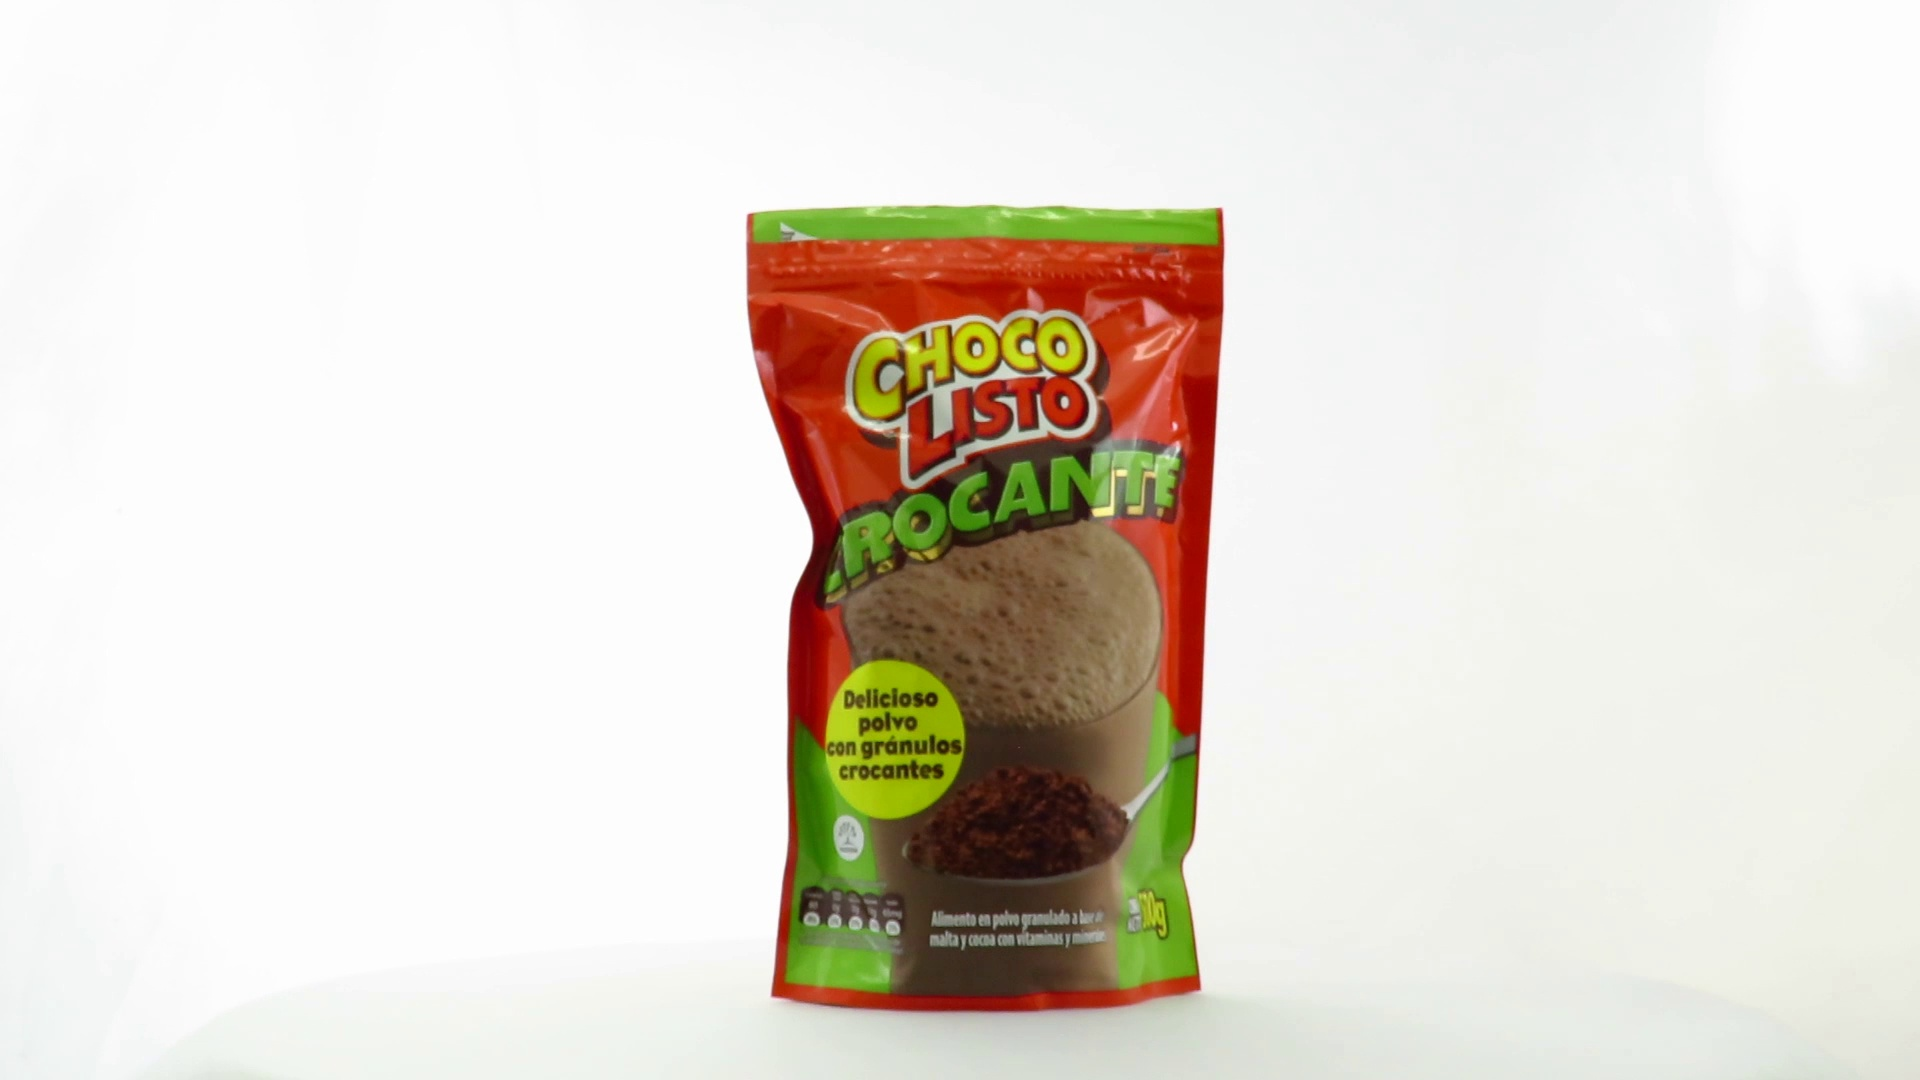COL0170102DYP50000: (741, 200, 1232, 1018)
